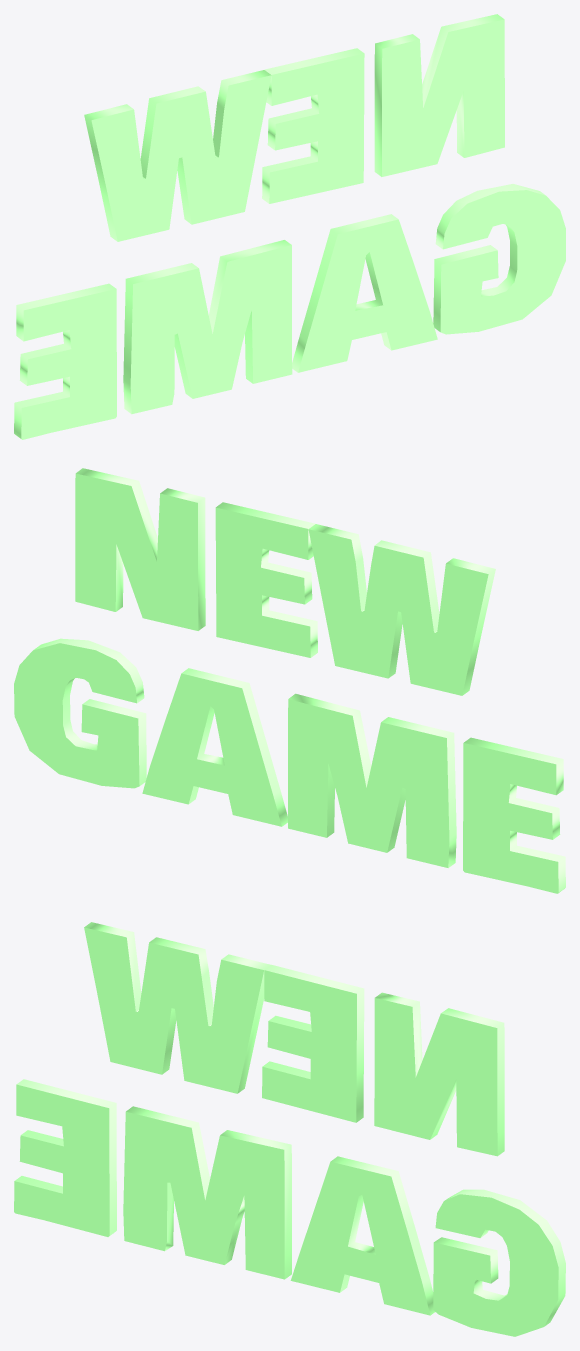
Rendered from NewGameText.glb.
The picture shows the model from 3 angles, top to bottom: view 1: azimuth 30°, elevation 25°; view 2: azimuth 150°, elevation 25°; view 3: azimuth 330°, elevation 25°; orthographic projection.
Parts seen in each view (by area): view 1: NewGameText; view 2: NewGameText; view 3: NewGameText.
Part boxes in pixels (x1,y1,x2,y2): NewGameText: [14, 14, 565, 439]; NewGameText: [14, 468, 565, 893]; NewGameText: [14, 922, 565, 1336].
Bounding box in the file's own units: 3.15 × 1.7 × 0.073.
